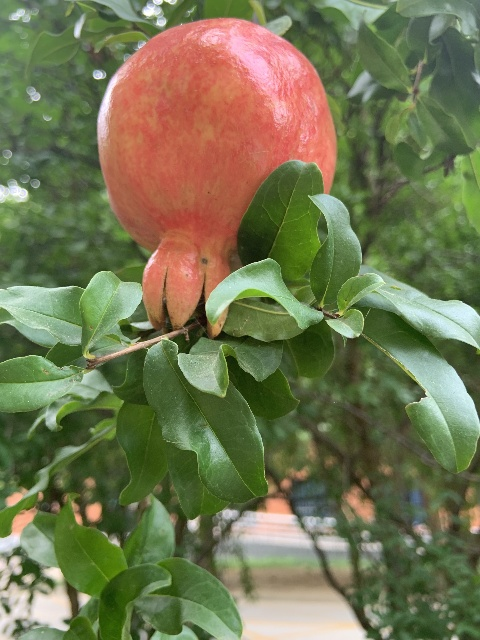ripe: (99, 19, 335, 340)
